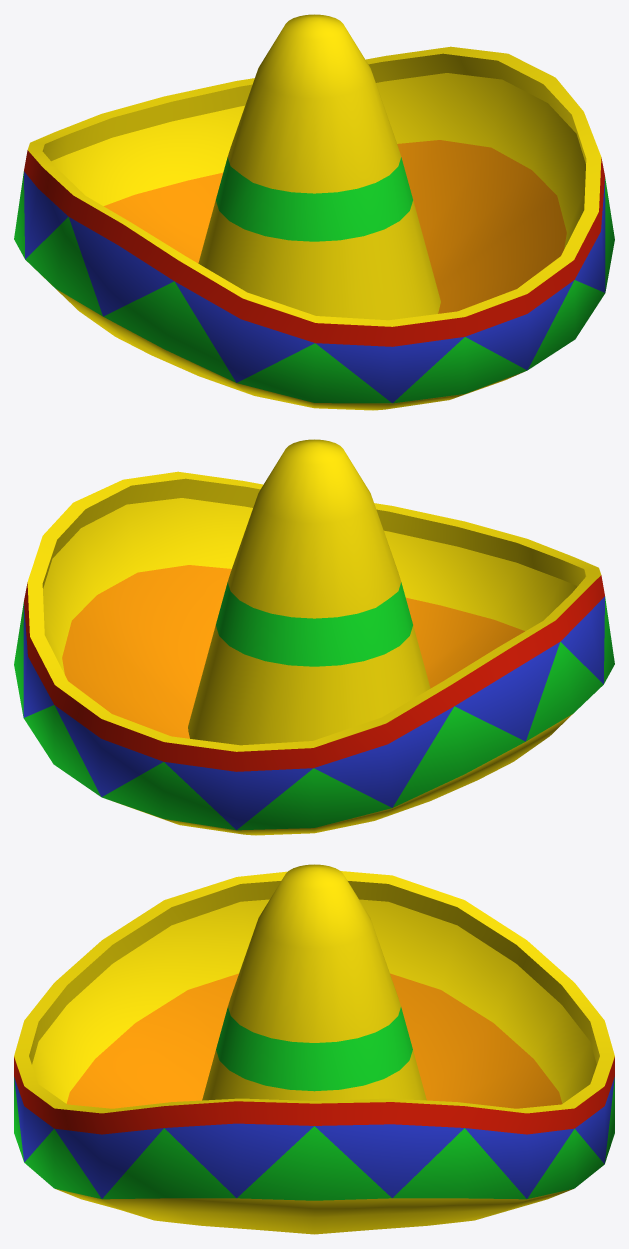
File: Mexican_hat.fbx
3 renders of one model, top to bottom at view 1: azimuth 30°, elevation 25°; view 2: azimuth 150°, elevation 25°; view 3: azimuth 270°, elevation 25°, orthographic.
Visible parts, largest first — view 1: Mexican_hat; view 2: Mexican_hat; view 3: Mexican_hat.
Part boxes in pixels (left/top/right/bottom): Mexican_hat: left=14, top=14, right=614, bottom=410; Mexican_hat: left=14, top=439, right=614, bottom=835; Mexican_hat: left=14, top=864, right=614, bottom=1234.
Bounding box in the file's own units: 1.55 × 0.8855 × 1.56.
